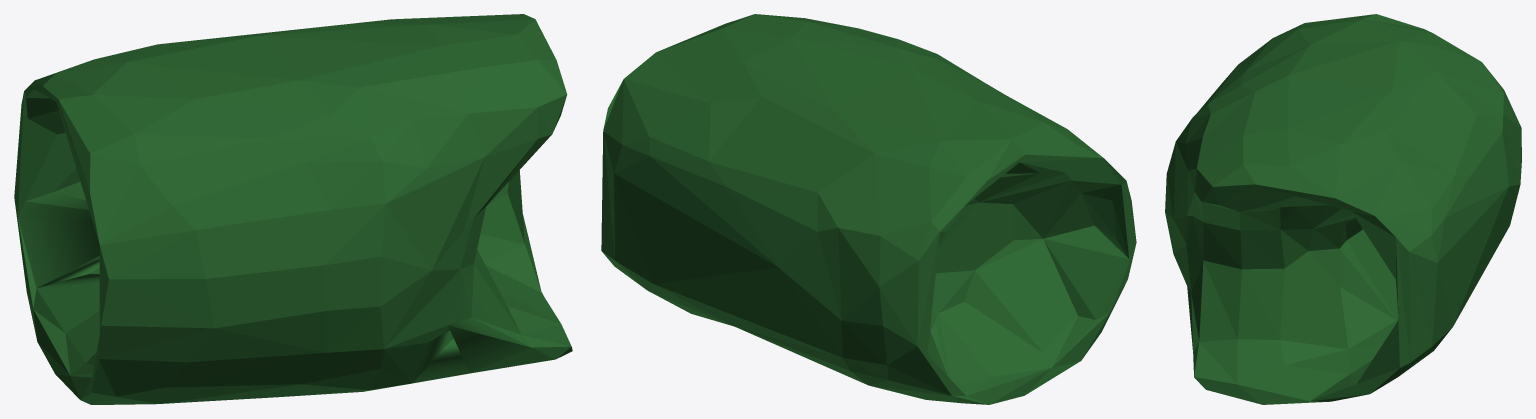
File: sim_sea_2-5_l_elbow_prt.obj
3 views of the same model, side by side, from view 1: azimuth 30°, elevation 25°; view 2: azimuth 150°, elevation 25°; view 3: azimuth 270°, elevation 25° (orthographic). The views are drawn at different scales.
Parts seen in each view (by area): view 1: sim_sea_2-5_l_elbow_prt; view 2: sim_sea_2-5_l_elbow_prt; view 3: sim_sea_2-5_l_elbow_prt.
Boxes of the visible parts, x1,y1,x2,y2 form: sim_sea_2-5_l_elbow_prt: [14, 14, 572, 404]; sim_sea_2-5_l_elbow_prt: [601, 14, 1136, 404]; sim_sea_2-5_l_elbow_prt: [1165, 14, 1521, 404].
Size of the model in its own units: 139 by 78.7 by 105.
